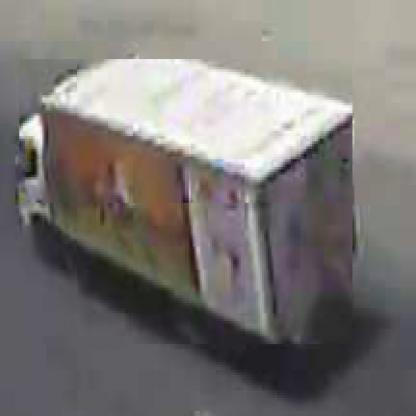truck: (21, 60, 356, 348)
